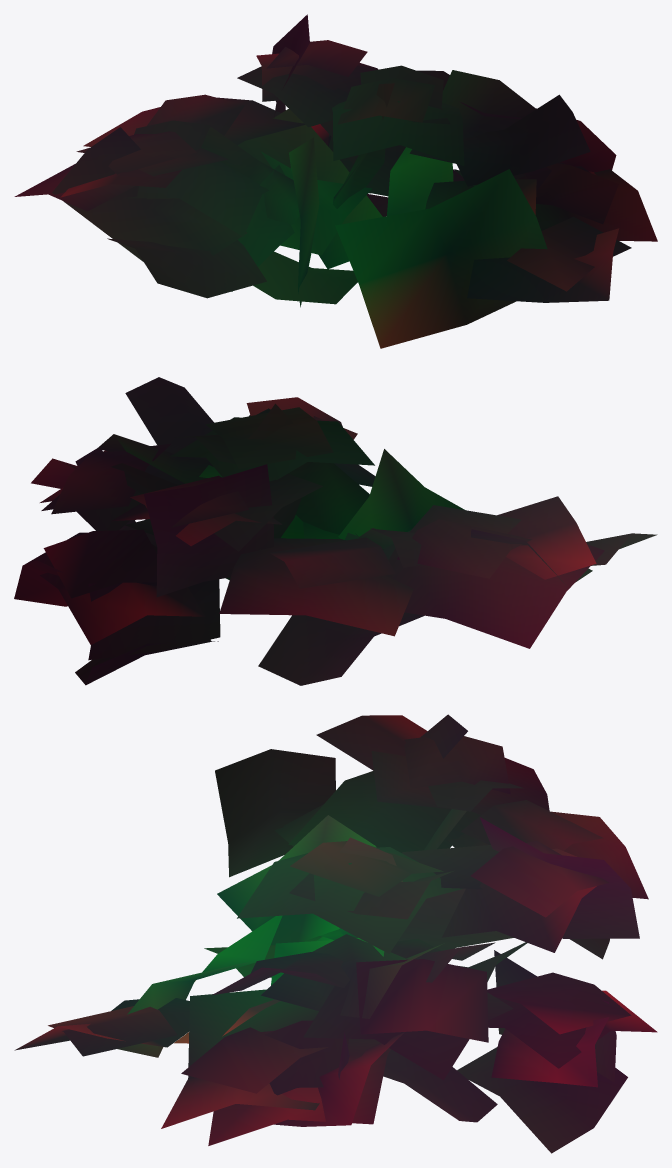
The model's file is p_mesh_pine01_part07_pose0.fbx.
3 views of the same model, one above another, from view 1: azimuth 30°, elevation 25°; view 2: azimuth 150°, elevation 25°; view 3: azimuth 270°, elevation 25° (orthographic). The views are drawn at different scales.
Visible parts, largest first — view 1: p_mesh_pine01_p07_pose0; view 2: p_mesh_pine01_p07_pose0; view 3: p_mesh_pine01_p07_pose0.
Boxes of the visible parts, x1,y1,x2,y2 form: p_mesh_pine01_p07_pose0: (14, 14, 657, 348); p_mesh_pine01_p07_pose0: (14, 377, 657, 685); p_mesh_pine01_p07_pose0: (14, 714, 657, 1153).
Bounding box in the file's own units: 57.61 × 21.48 × 48.92.
